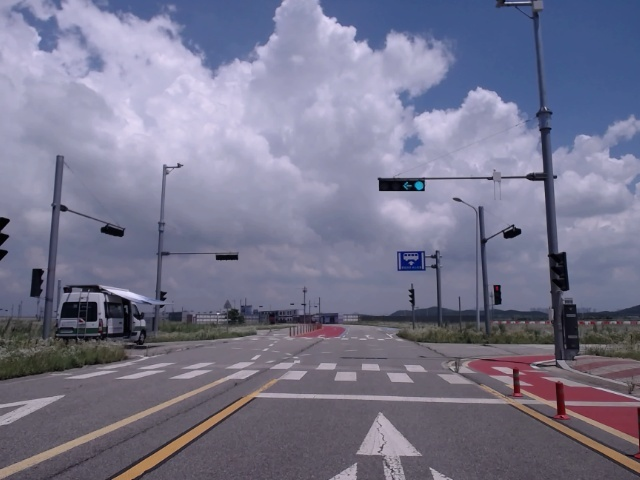all_green_4: (377, 178, 429, 191)
